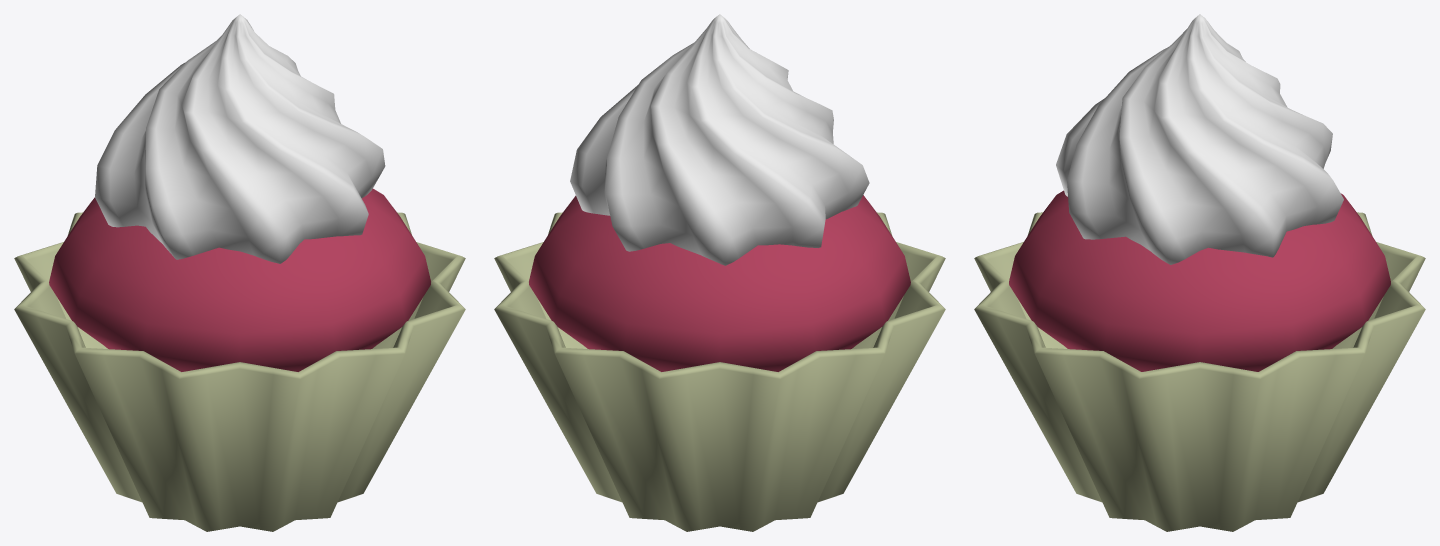
Rendered from Cake2.fbx.
3 views of the same model, side by side, from view 1: azimuth 30°, elevation 25°; view 2: azimuth 150°, elevation 25°; view 3: azimuth 270°, elevation 25° (orthographic).
Visible parts, largest first — view 1: Cake2; view 2: Cake2; view 3: Cake2.
Boxes of the visible parts, x1=… form: Cake2: x1=14, y1=14, x2=465, y2=531; Cake2: x1=494, y1=14, x2=945, y2=531; Cake2: x1=974, y1=14, x2=1425, y2=531.
Size of the model in its own units: 1.34 by 1.34 by 1.52.
